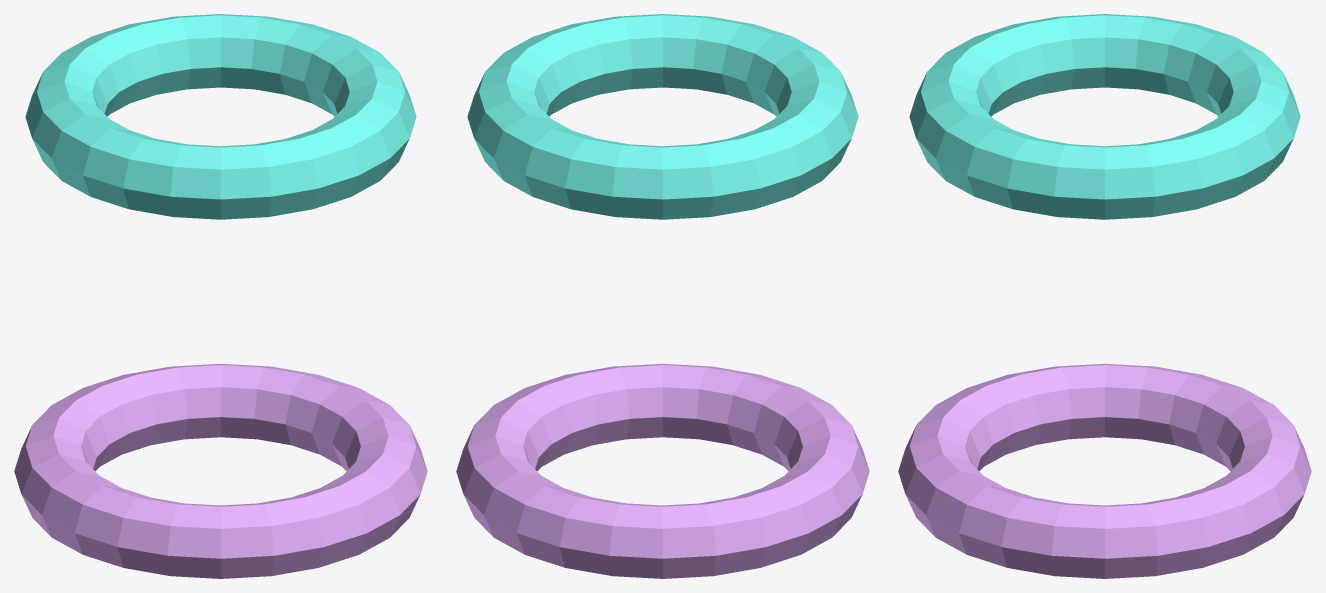
File: CandyForest_Lighting.fbx
The picture shows the model from 3 angles, left to right: view 1: azimuth 30°, elevation 25°; view 2: azimuth 150°, elevation 25°; view 3: azimuth 270°, elevation 25°; orthographic projection.
Visible parts, largest first — view 1: CAN_GiantLollipopTree_RuneBand, CAN_GiantLollipopTree_RuneBand_01; view 2: CAN_GiantLollipopTree_RuneBand, CAN_GiantLollipopTree_RuneBand_01; view 3: CAN_GiantLollipopTree_RuneBand, CAN_GiantLollipopTree_RuneBand_01.
Part boxes in pixels (bbox=[...]): CAN_GiantLollipopTree_RuneBand: bbox=[14, 363, 427, 578]; CAN_GiantLollipopTree_RuneBand_01: bbox=[25, 14, 416, 219]; CAN_GiantLollipopTree_RuneBand: bbox=[456, 363, 869, 578]; CAN_GiantLollipopTree_RuneBand_01: bbox=[467, 14, 858, 219]; CAN_GiantLollipopTree_RuneBand: bbox=[898, 363, 1311, 578]; CAN_GiantLollipopTree_RuneBand_01: bbox=[909, 14, 1300, 219].
Size of the model in its own units: 7.4 by 8.4 by 7.4.
